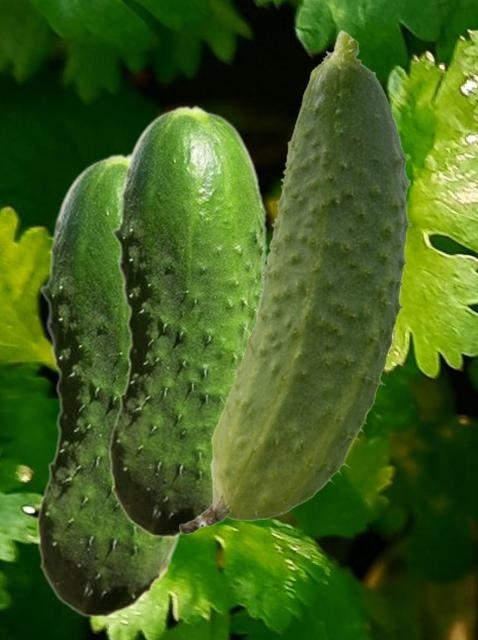cucumber: (179, 30, 411, 533), (108, 104, 269, 537), (36, 152, 182, 617)
